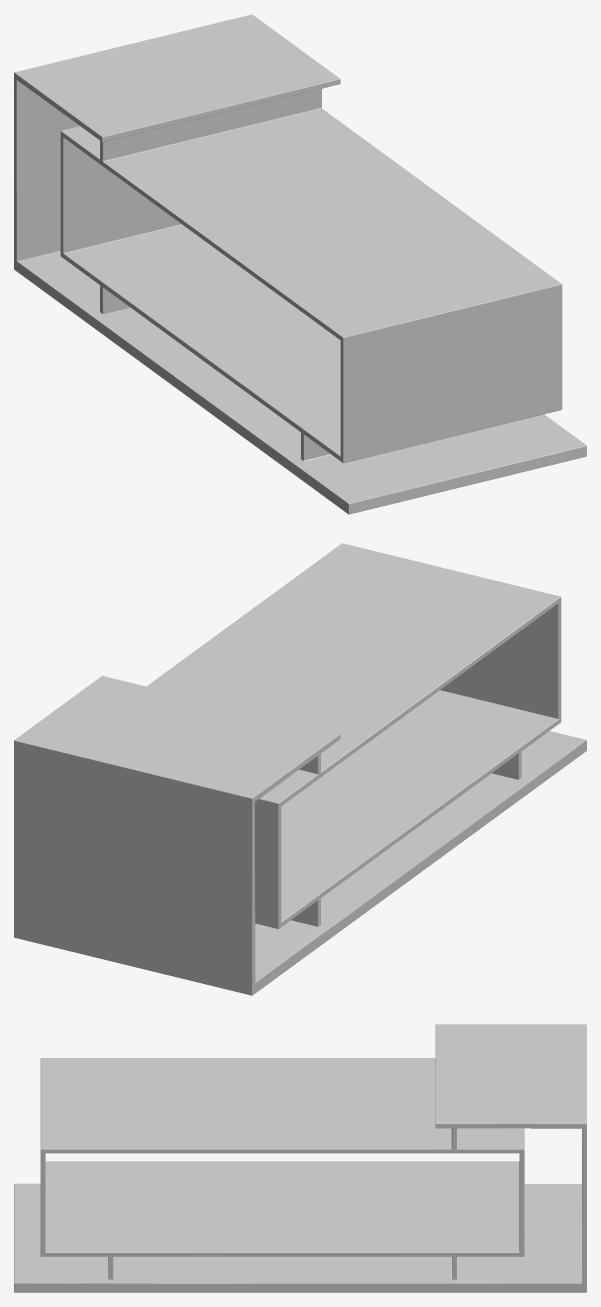
File: white_coffee_table.glb
The picture shows the model from 3 angles, top to bottom: view 1: azimuth 30°, elevation 25°; view 2: azimuth 150°, elevation 25°; view 3: azimuth 270°, elevation 25°; orthographic projection. The views are drawn at different scales.
Parts seen in each view (by area): view 1: Plane_1; view 2: Plane_1; view 3: Plane_1.
Part boxes in pixels (bbox=[...]): Plane_1: bbox=[14, 14, 586, 514]; Plane_1: bbox=[14, 543, 586, 995]; Plane_1: bbox=[14, 1024, 586, 1292].
Size of the model in its own units: 0.4508 by 0.3566 by 1.1.
1 material, 1 textured.
